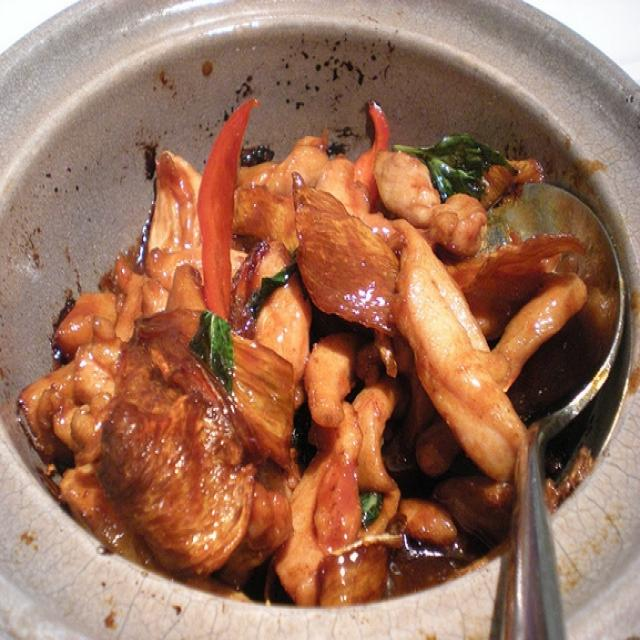鸡肉料理 含炸鸡: (20, 68, 603, 599)
